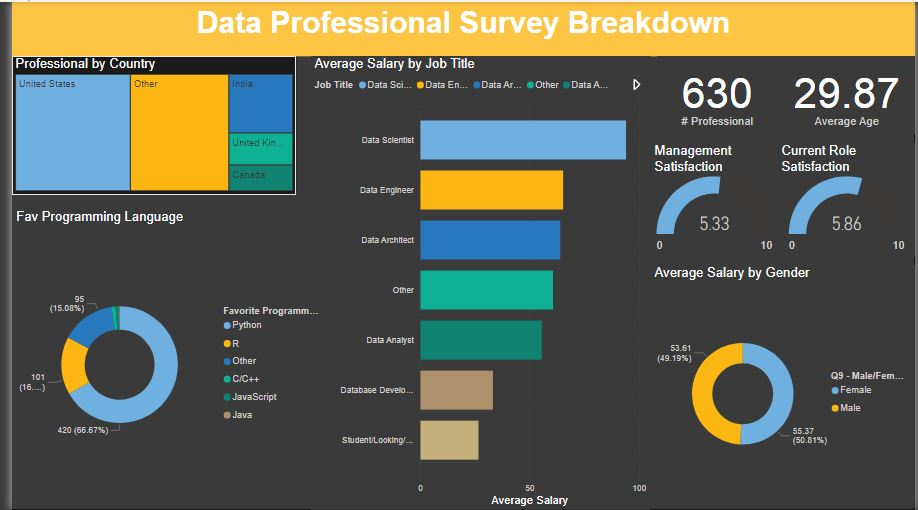

The page's visual inventory and layout, read from the dashboard file:
{"tool":"powerbi","page":{"name":"Page 1","canvas":[1280,720],"ordinal":0},"visuals":[{"type":"textbox","box":[0,0,1280,77.2],"z":0},{"type":"card","fields":{"Values":["Avg(Data Professional Survey.Q10 - Current Age)"]},"box":[1085.4,77.2,194.6,110.7],"z":1000},{"type":"card","fields":{"Values":["Count(Data Professional Survey.Unique ID)"]},"box":[914.3,77.2,171.1,110.7],"z":2000},{"type":"barChart","title":"Average Salary by Job Title","fields":{"Category":["Data Professional Survey.Q1 - Which Title Best Fits your Current Role?.1"],"Y":["Avg(Data Professional Survey.Average Salary)"],"Series":["Data Professional Survey.Q1 - Which Title Best Fits your Current Role?.1"]},"box":[424.4,77.2,481.5,642.5],"z":3000},{"type":"donutChart","title":"Fav Programming Language","fields":{"Category":["Data Professional Survey.Q5 - Favorite Programming Language.1"],"Y":["CountNonNull(Data Professional Survey.Unique ID)"]},"box":[0,273.4,451.3,446.2],"z":4000},{"type":"treemap","title":"Professional by Country","fields":{"Values":["CountNonNull(Data Professional Survey.Q11 - Which Country do you live in?.1)"],"Group":["Data Professional Survey.Q11 - Which Country do you live in?.1"]},"box":[0,77.2,402.6,196.3],"z":6000},{"type":"gauge","title":"Current Role Satisfaction ","fields":{"Y":["Avg(Data Professional Survey.Q6 - How Happy are you in your Current Position with the following? (Coworkers))"],"MinValue":["Min(Data Professional Survey.Q6 - How Happy are you in your Current Position with the following? (Coworkers))"],"MaxValue":["Max(Data Professional Survey.Q6 - How Happy are you in your Current Position with the following? (Coworkers))"]},"box":[1085.4,199.6,194.6,161],"z":7000},{"type":"gauge","title":"Management Satisfaction","fields":{"Y":["Avg(Data Professional Survey.Q6 - How Happy are you in your Current Position with the following? (Management))"],"MinValue":["Min(Data Professional Survey.Q6 - How Happy are you in your Current Position with the following? (Management))"],"MaxValue":["Max(Data Professional Survey.Q6 - How Happy are you in your Current Position with the following? (Management))"]},"box":[905.9,199.6,179.5,161],"z":8000},{"type":"donutChart","title":"Average Salary by Gender","fields":{"Category":["Data Professional Survey.Q9 - Male/Female?"],"Y":["Avg(Data Professional Survey.Average Salary)"]},"box":[906,373,374.1,343.9],"z":9000}]}

Visuals, with their boxes in screenshot pixels (x1, y1, x2, y2), scaled from the page's 1280x720 canvas onto the 918x510 screenshot:
textbox: [0, 0, 917, 55]
card - Avg(Data Professional Survey.Q10 - Current Age): [778, 55, 917, 133]
card - Count(Data Professional Survey.Unique ID): [656, 55, 778, 133]
"Average Salary by Job Title" barChart: [304, 55, 650, 509]
"Fav Programming Language" donutChart: [0, 194, 324, 509]
"Professional by Country" treemap: [0, 55, 289, 194]
"Current Role Satisfaction " gauge: [778, 141, 917, 255]
"Management Satisfaction" gauge: [650, 141, 778, 255]
"Average Salary by Gender" donutChart: [650, 264, 917, 508]
